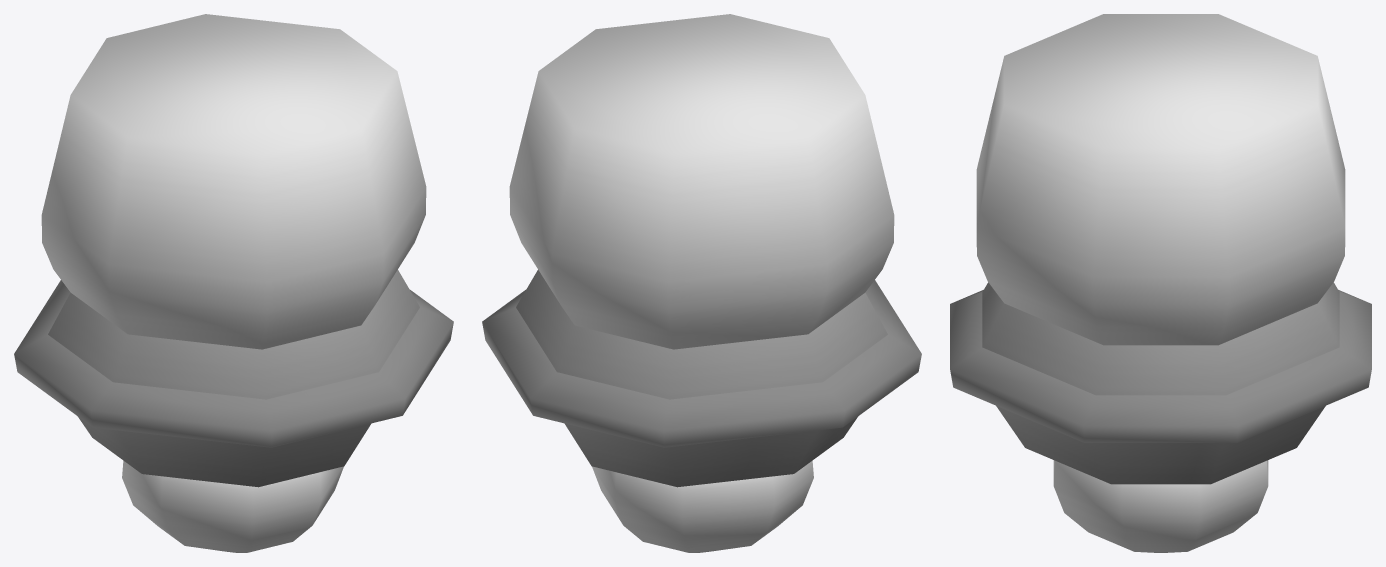
The model's file is stone_pommel_148.glb.
The picture shows the model from 3 angles, left to right: view 1: azimuth 30°, elevation 25°; view 2: azimuth 150°, elevation 25°; view 3: azimuth 270°, elevation 25°; orthographic projection.
Visible parts, largest first — view 1: stone_pommel.148; view 2: stone_pommel.148; view 3: stone_pommel.148.
Boxes of the visible parts, x1,y1,x2,y2 form: stone_pommel.148: (14, 14, 453, 552); stone_pommel.148: (482, 14, 921, 552); stone_pommel.148: (950, 14, 1371, 552).
Size of the model in its own units: 1.85 by 2.26 by 1.85.
Materials: 1 (1 with a texture image).
